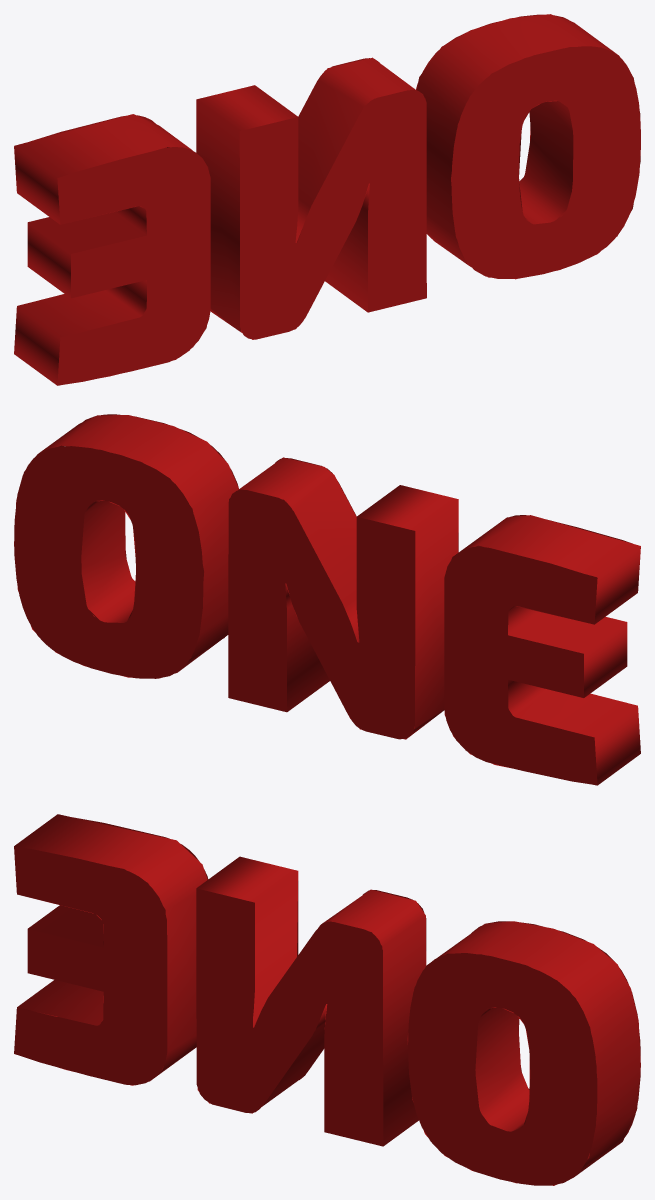
Rendered from one.fbx.
3 views of the same model, one above another, from view 1: azimuth 30°, elevation 25°; view 2: azimuth 150°, elevation 25°; view 3: azimuth 330°, elevation 25° (orthographic).
Visible parts, largest first — view 1: Text; view 2: Text; view 3: Text.
Boxes of the visible parts, bbox=[...] form: Text: bbox=[14, 14, 640, 385]; Text: bbox=[14, 414, 640, 785]; Text: bbox=[14, 814, 640, 1185].
Size of the model in its own units: 6.21 by 2.25 by 0.8.
